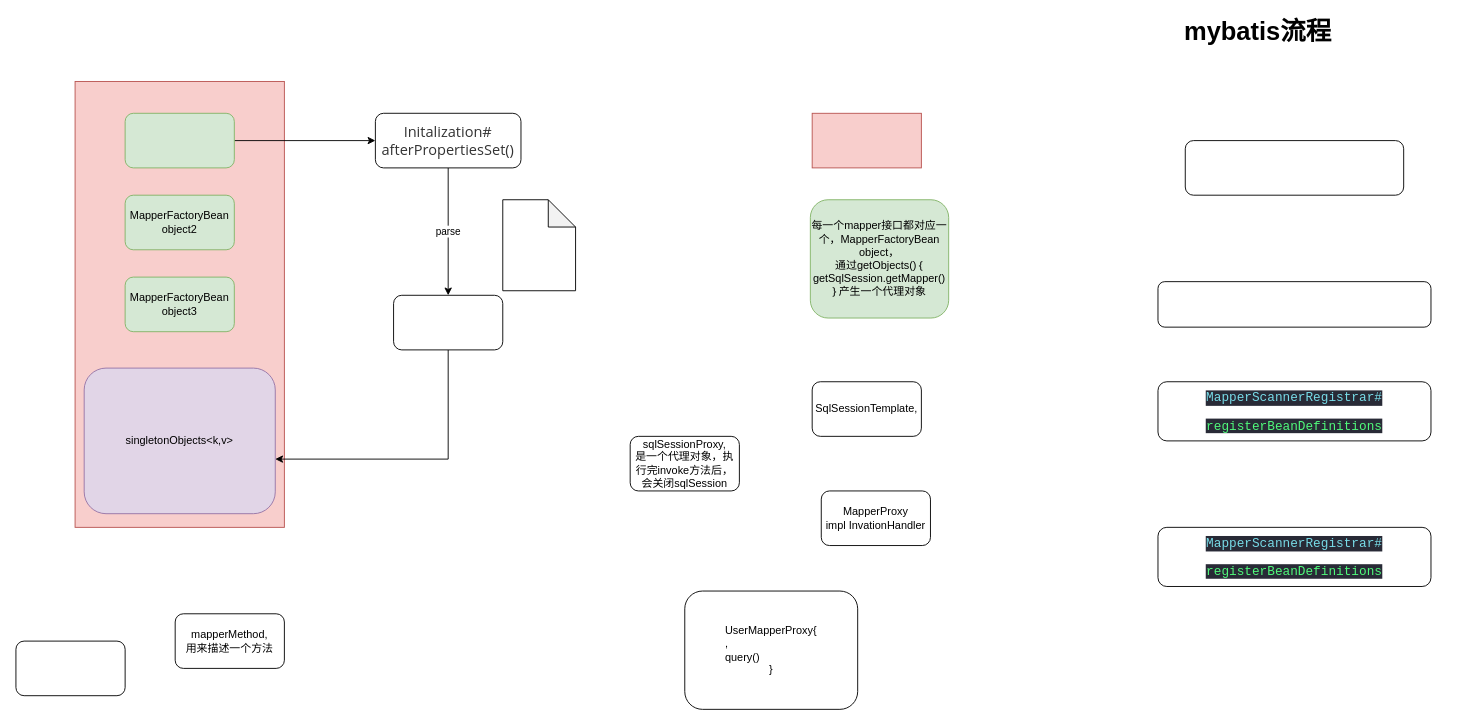
Image size: 1460x725. Some labels were removed from this diagram. The centre of each missing label's shape, as x and y in pixels:
@Import ({ MapperScannerRegistrar . class }): the point at 1294,304
@MapperScan ( "com.alonge.mapper" ): the point at 1294,167
mapper method annotation: the point at 448,322
MapperFactoryBean object1: the point at 179,140
mybatis流程TODO，需要看源码: the point at 539,245
spring容器: the point at 866,140
